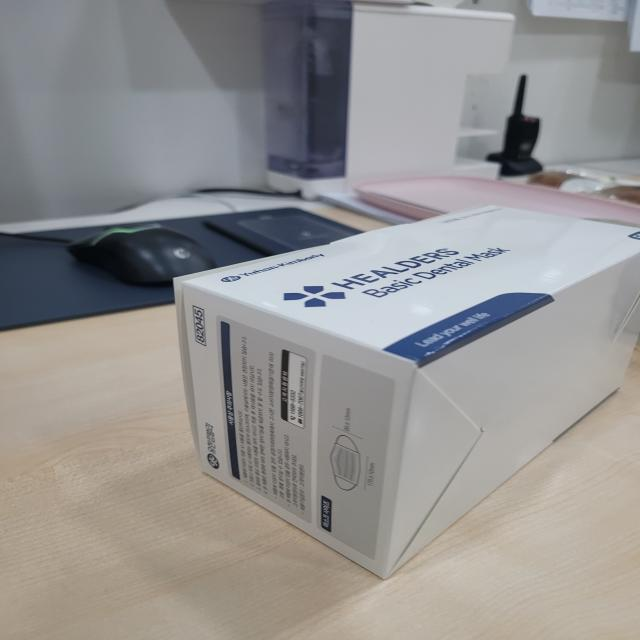mask: (151, 183, 640, 588)
